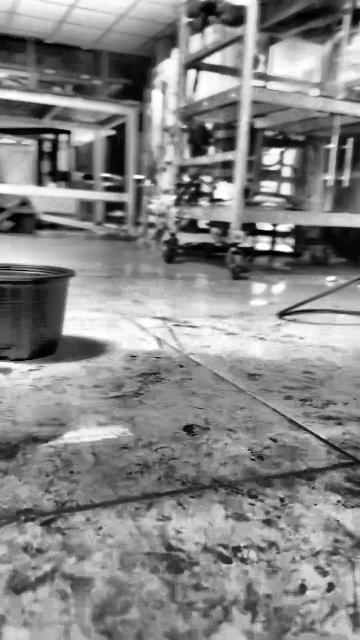pot: (0, 264, 74, 361)
